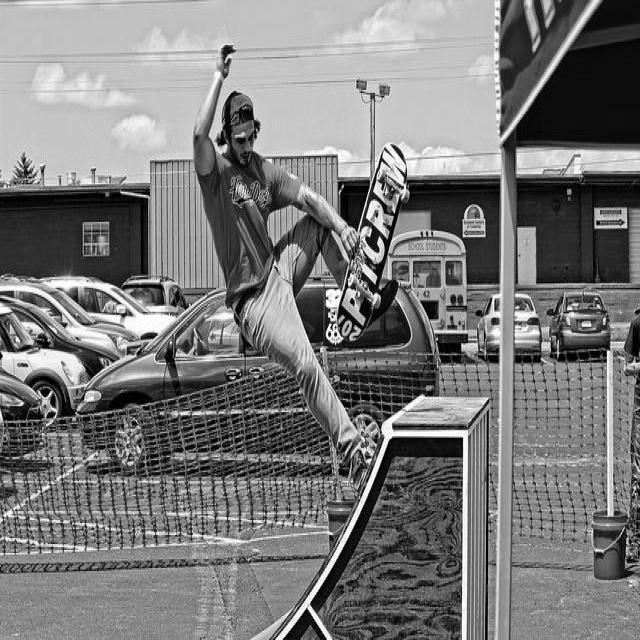vehicle: (74, 279, 444, 471), (0, 275, 140, 359), (381, 229, 467, 353), (0, 307, 89, 425), (0, 297, 120, 379), (41, 276, 181, 340), (475, 293, 542, 361), (546, 292, 610, 358), (0, 367, 44, 460), (120, 276, 187, 316)
